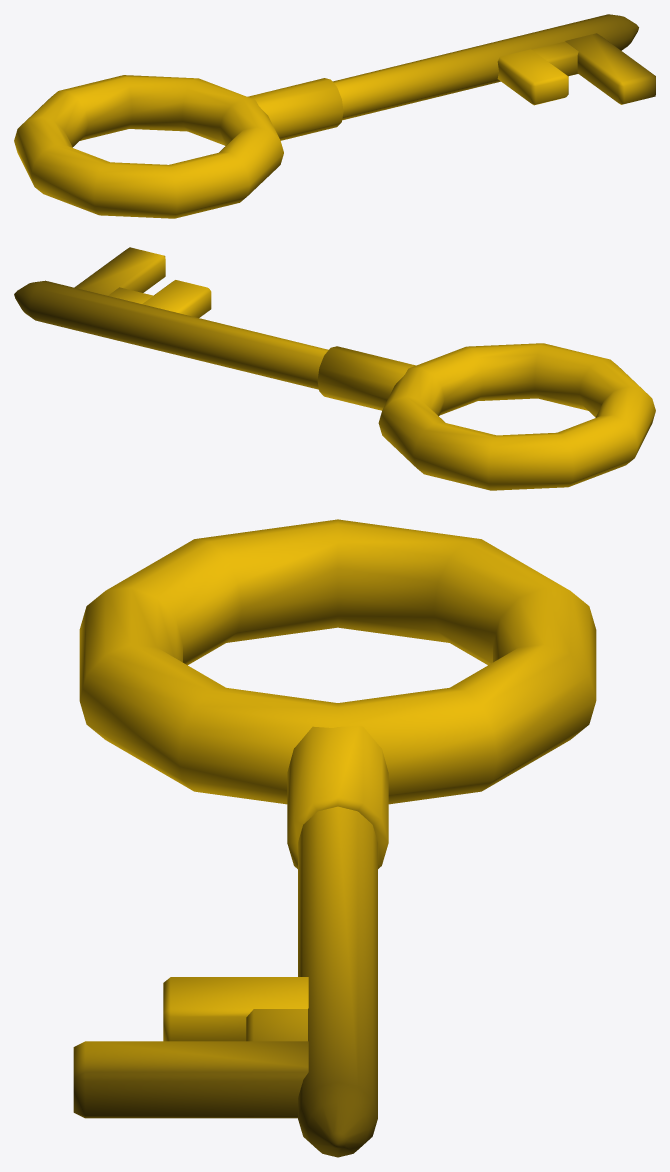
Rendered from Key.fbx.
3 renders of one model, top to bottom at view 1: azimuth 30°, elevation 25°; view 2: azimuth 150°, elevation 25°; view 3: azimuth 270°, elevation 25°, orthographic. The views are drawn at different scales.
Visible parts, largest first — view 1: Chave; view 2: Chave; view 3: Chave.
Boxes of the visible parts, x1,y1,x2,y2 form: Chave: (14, 14, 655, 218); Chave: (14, 247, 655, 490); Chave: (73, 519, 596, 1157).
Size of the model in its own units: 147 by 11.38 by 54.73.
